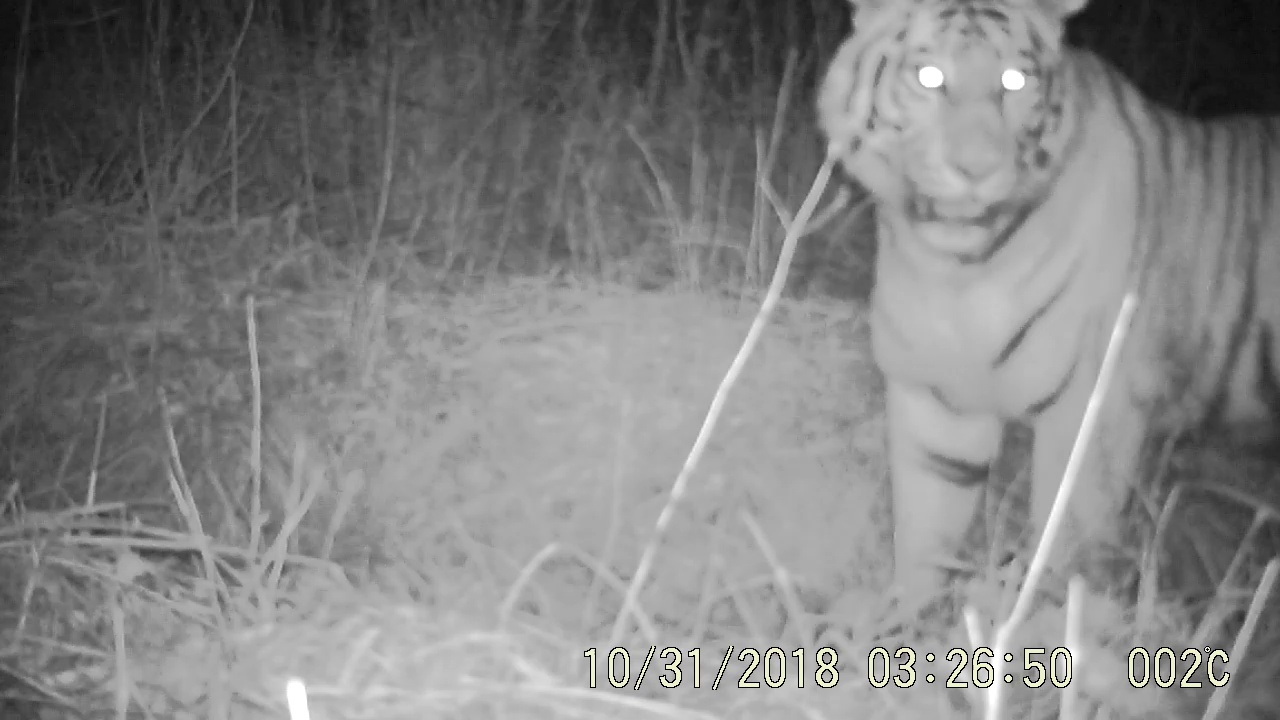Tiger: (776, 2, 1280, 623)
